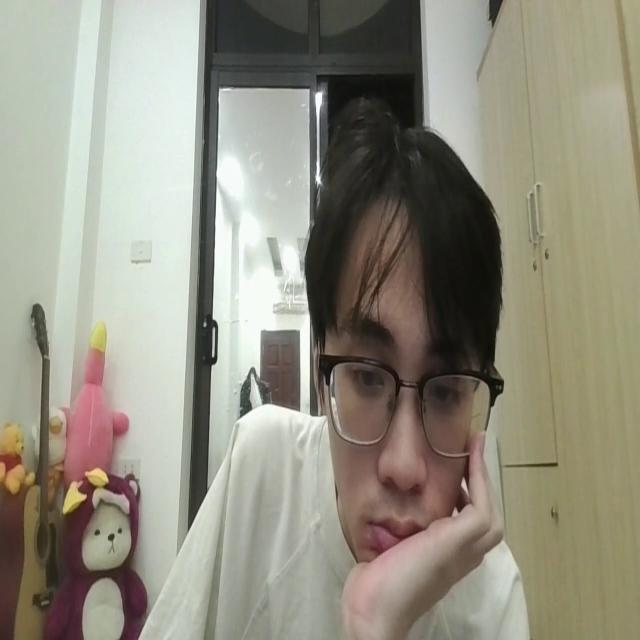student: (138, 101, 537, 640)
